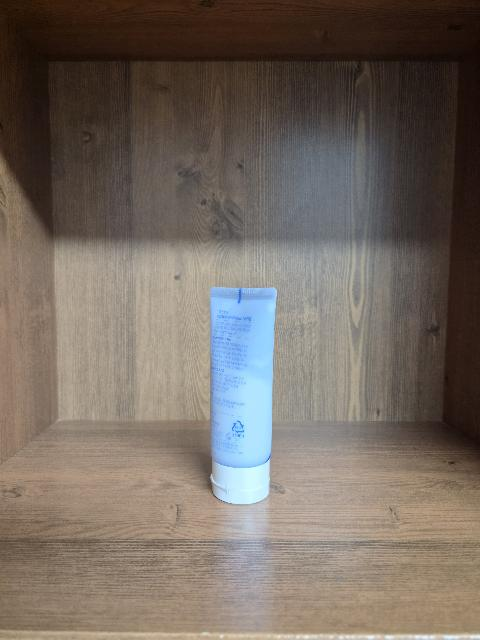handcream: (210, 287, 277, 505)
